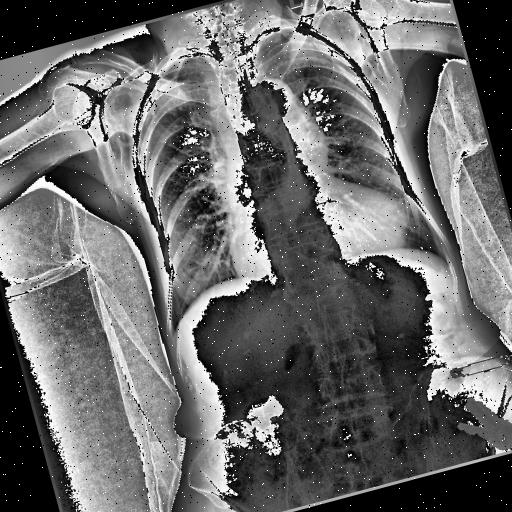0- Aortic enlargement: (246, 69, 324, 152), (238, 64, 314, 136), (244, 71, 318, 142)
3- Cardiomegaly: (218, 174, 416, 296), (217, 170, 411, 290), (227, 201, 414, 291)
